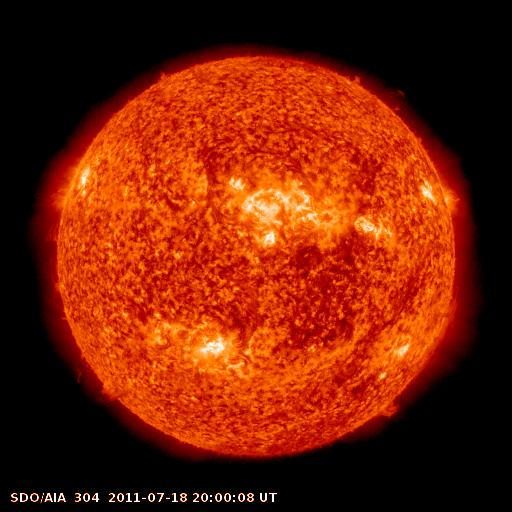prominence: (367, 389, 410, 424), (94, 374, 126, 407)
